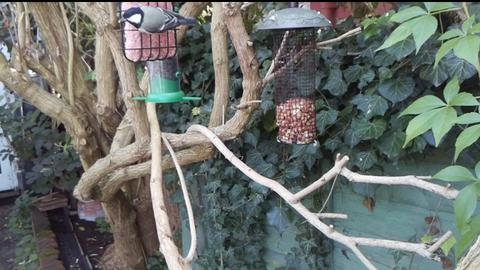great tit: (118, 6, 198, 34)
